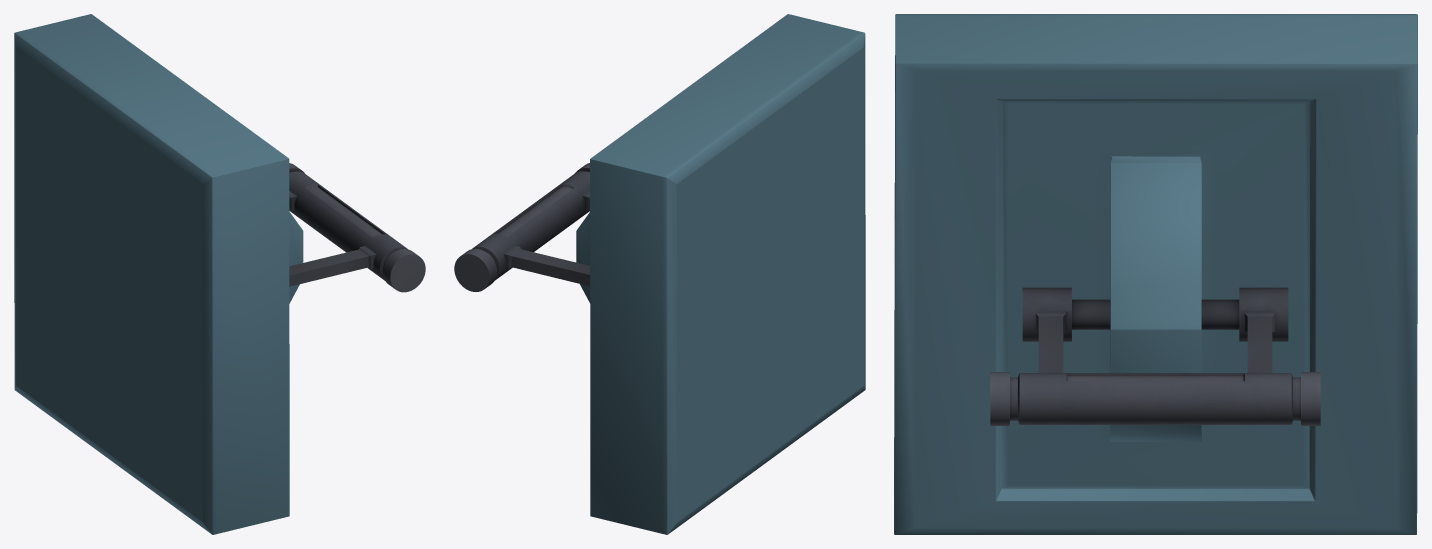
Rendered from lever_upgraded.fbx.
3 views of the same model, side by side, from view 1: azimuth 30°, elevation 25°; view 2: azimuth 150°, elevation 25°; view 3: azimuth 270°, elevation 25° (orthographic). The views are drawn at different scales.
Visible parts, largest first — view 1: Cube, Cube.001; view 2: Cube, Cube.001; view 3: Cube, Cube.001.
Boxes of the visible parts, x1,y1,x2,y2 form: Cube: [14, 14, 303, 534]; Cube.001: [289, 163, 425, 292]; Cube: [576, 14, 865, 534]; Cube.001: [454, 163, 589, 291]; Cube: [894, 14, 1417, 534]; Cube.001: [990, 287, 1320, 425].
Size of the model in its own units: 46.57 by 62.78 by 63.19.
Materials: 2 (2 with a texture image).
